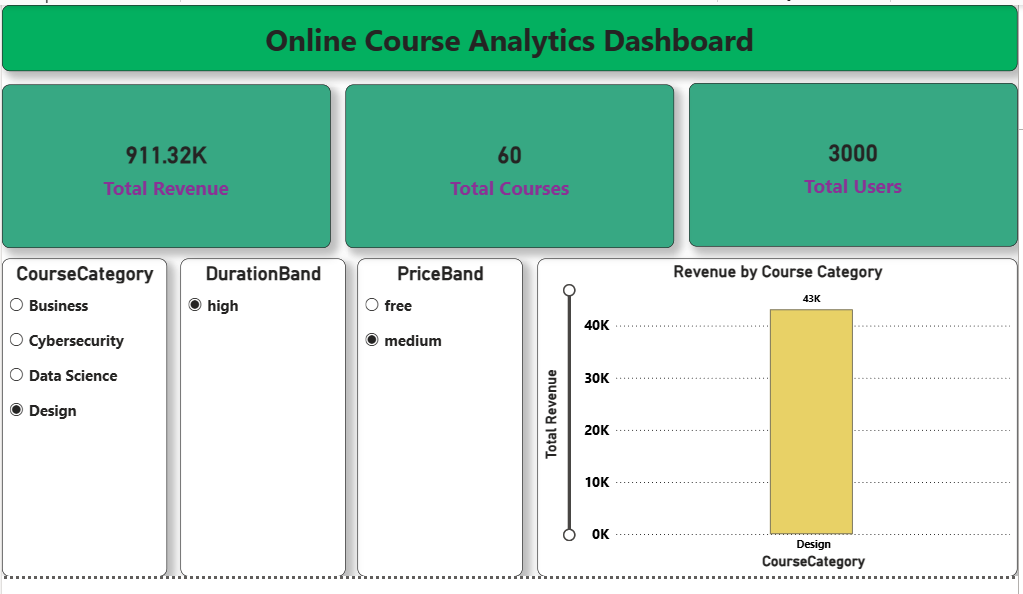

Layout of this report page (visuals, bound fields, positions):
{"tool":"powerbi","page":{"name":"Course ","canvas":[1280,720],"ordinal":0},"visuals":[{"type":"clusteredColumnChart","title":"Revenue by Course Category","fields":{"Category":["Courses.CourseCategory"],"Y":["Courses.Total Revenue"]},"box":[674.7,319.4,604.7,400.6],"z":0},{"type":"listSlicer","fields":{"Values":["Courses.CourseCategory"]},"box":[0,319.4,207.9,400.6],"z":1},{"type":"listSlicer","fields":{"Values":["Courses.PriceBand"]},"box":[447.9,319.4,207.9,400.6],"z":2},{"type":"listSlicer","fields":{"Values":["Courses.DurationBand"]},"box":[224.9,319.4,207.9,400.6],"z":3},{"type":"card","fields":{"Values":["Courses.Total Revenue"]},"box":[0,100.2,413.9,206],"z":4},{"type":"card","fields":{"Values":["Courses.Total Users"]},"box":[865.5,98.3,413.9,206],"z":5},{"type":"card","fields":{"Values":["Courses.Total Courses"]},"box":[432.8,100.2,413.9,206],"z":6},{"type":"textbox","box":[0,0,1279.4,83.2],"z":7}]}

Visuals, with their boxes in screenshot pixels (x1, y1, x2, y2):
"Revenue by Course Category" clusteredColumnChart: detection(532, 254, 1008, 570)
listSlicer - Courses.CourseCategory: detection(0, 254, 164, 570)
listSlicer - Courses.PriceBand: detection(353, 254, 517, 570)
listSlicer - Courses.DurationBand: detection(177, 254, 341, 570)
card - Courses.Total Revenue: detection(0, 82, 326, 244)
card - Courses.Total Users: detection(682, 80, 1008, 243)
card - Courses.Total Courses: detection(341, 82, 667, 244)
textbox: detection(0, 3, 1008, 68)
